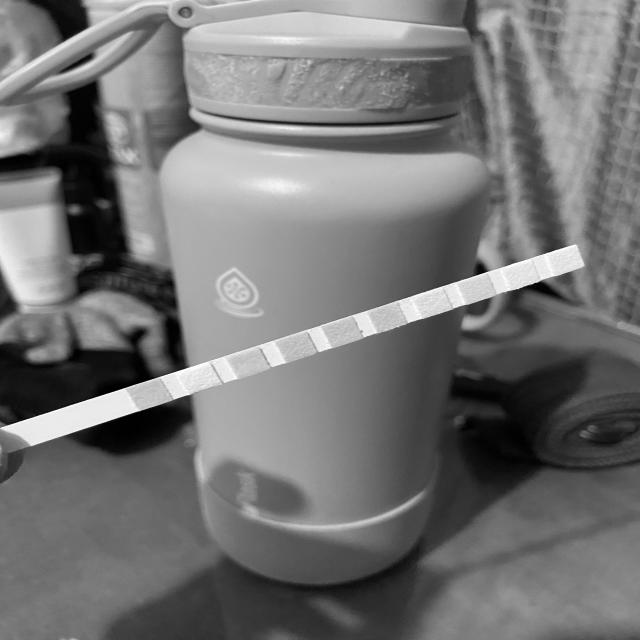Bilirubin: (187, 368, 214, 387)
Blood: (329, 323, 356, 342)
Glucose: (136, 384, 164, 404)
Ketone: (236, 352, 262, 372)
Leukocytes: (553, 251, 579, 269)
Nitrite: (507, 265, 535, 283)
Protein: (420, 294, 446, 312)
SpGravity: (284, 337, 310, 356)
Urobilinogen: (464, 280, 491, 298)
background: (0, 0, 640, 640)
pH: (376, 308, 401, 327)
strip: (1, 245, 586, 453)
